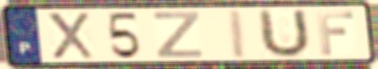5: (105, 11, 143, 59)
F: (315, 10, 357, 57)
I: (226, 8, 249, 60)
U: (258, 7, 312, 60)
X: (44, 10, 97, 60)
Z: (151, 10, 204, 59)
